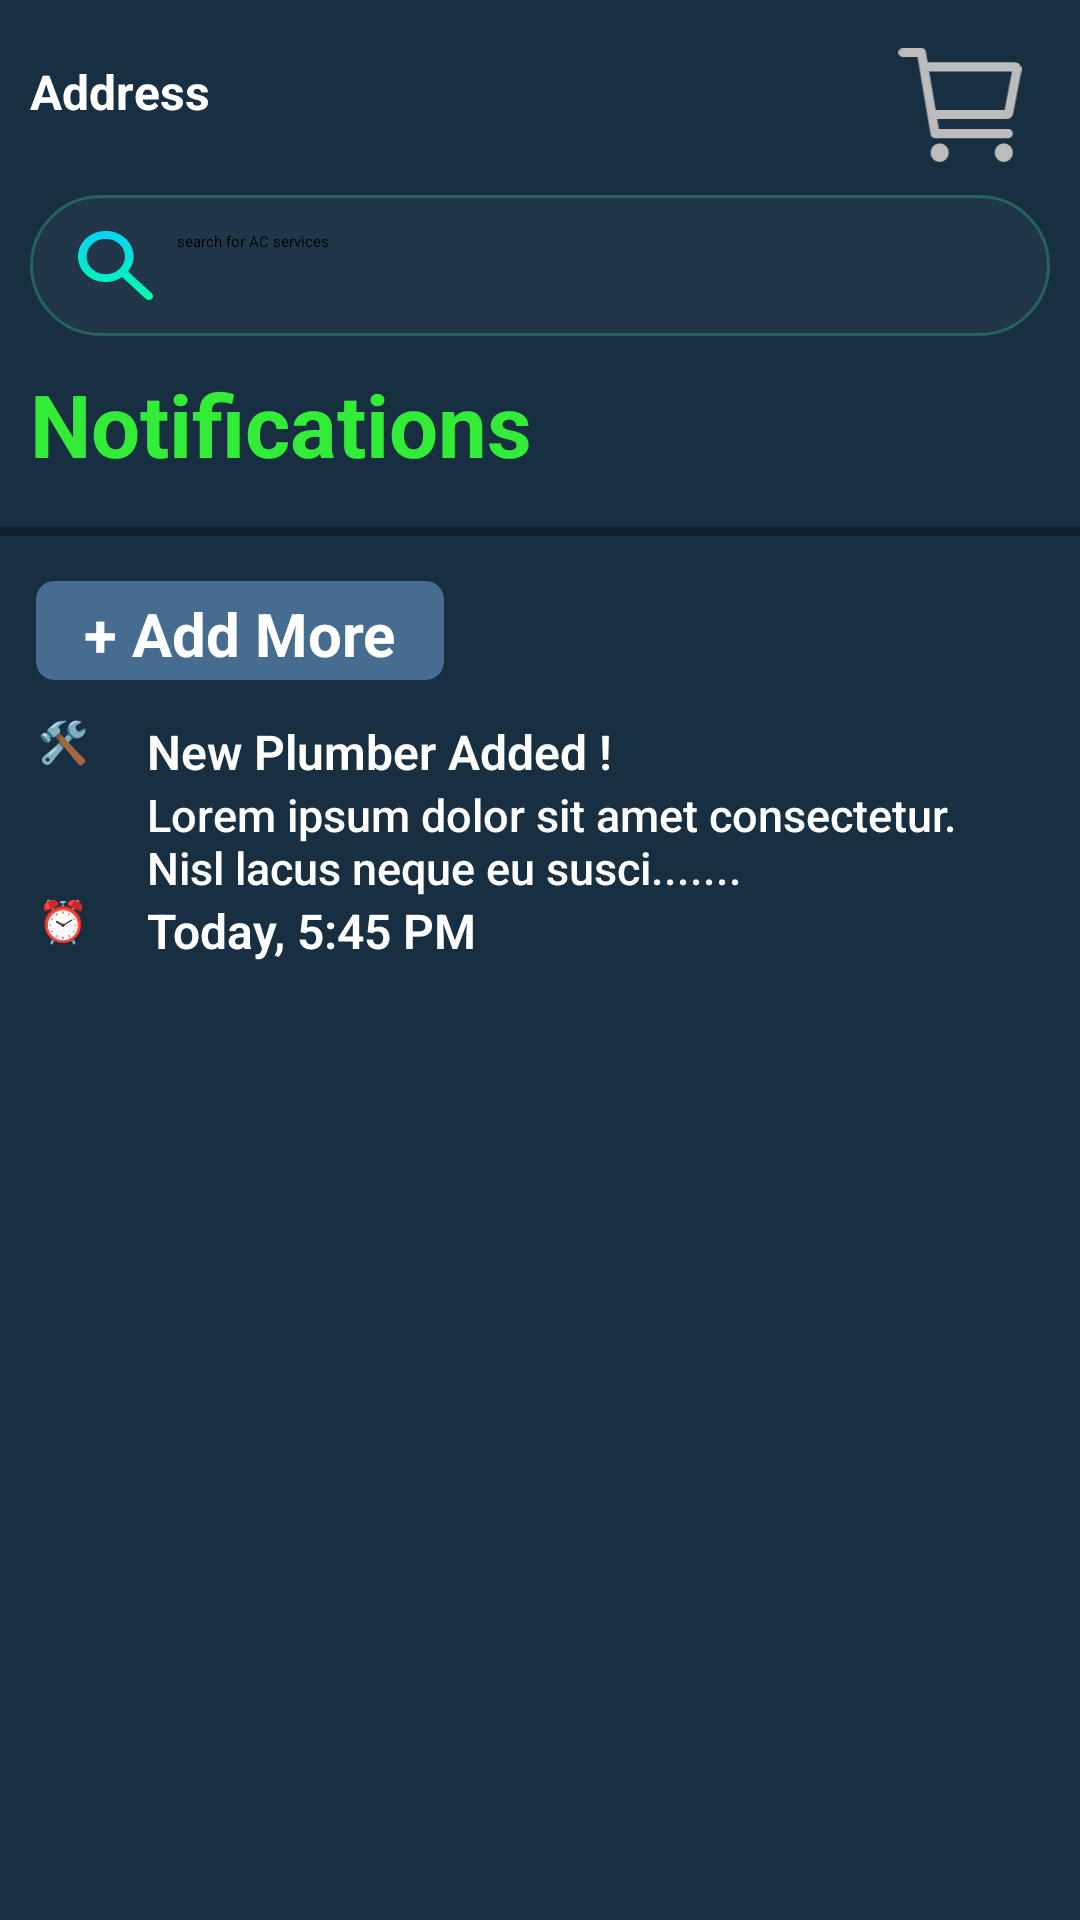

Icons on this 1080px×1920px Android screen, each with the point to tap as [x,y]:
noto alarm clock: [63,922]
noto hammer and wrench: [63,743]
shopping cart: [960,105]
